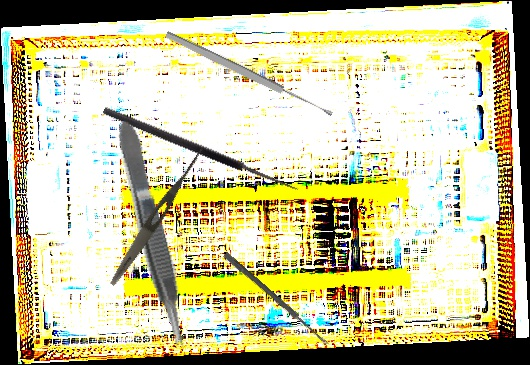Dressing Forceps: (106, 143, 208, 289)
Hook Surgical: (101, 96, 305, 195)
Surgical Spoon: (163, 29, 335, 120), (222, 251, 331, 348)
Tissue Forceps: (113, 117, 194, 353)
